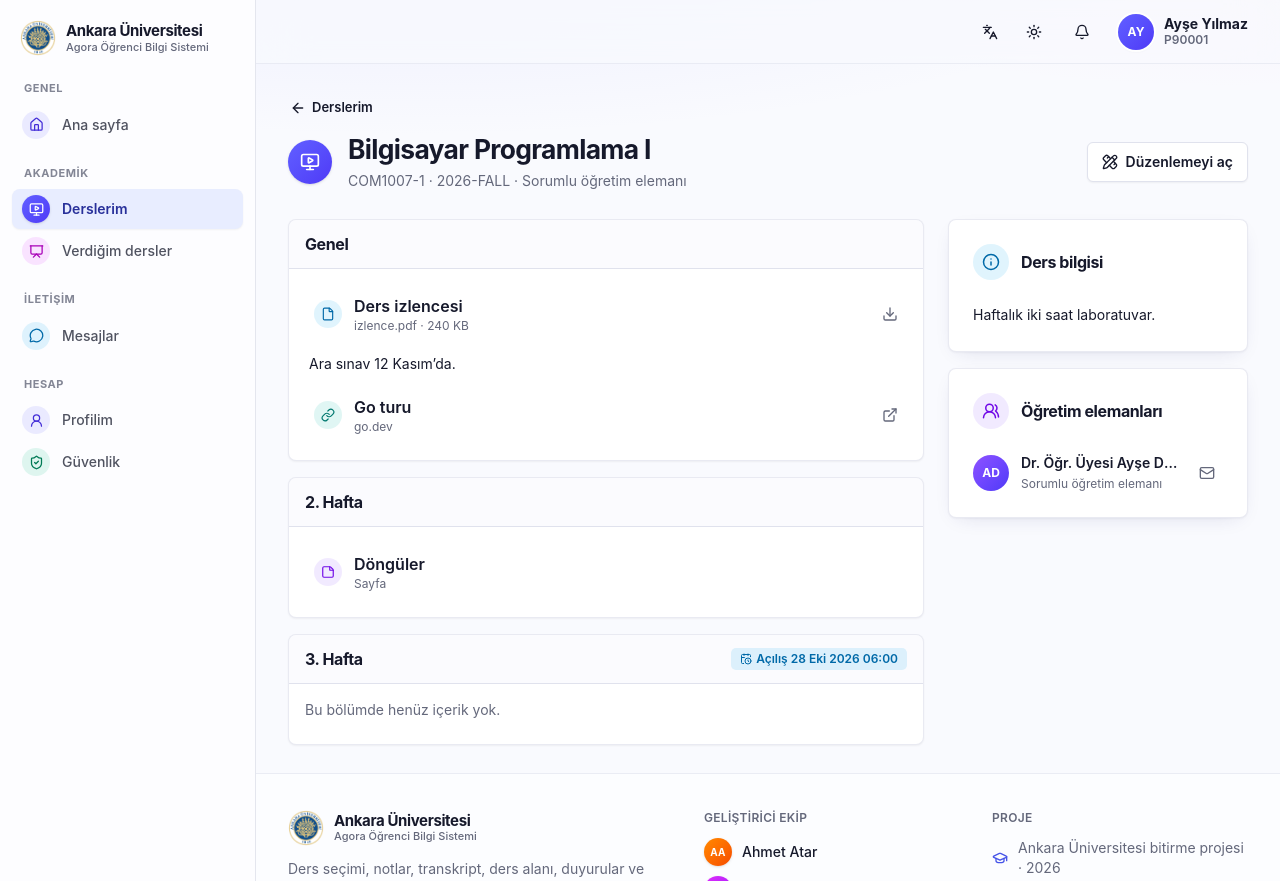
it: ders alanı (öğretim elemanı) › bağlantı etkinliği eklenir; başlık zorunludur
Click the button "Düzenlemeyi aç" at (1167, 162), box [1087,142,1248,182]
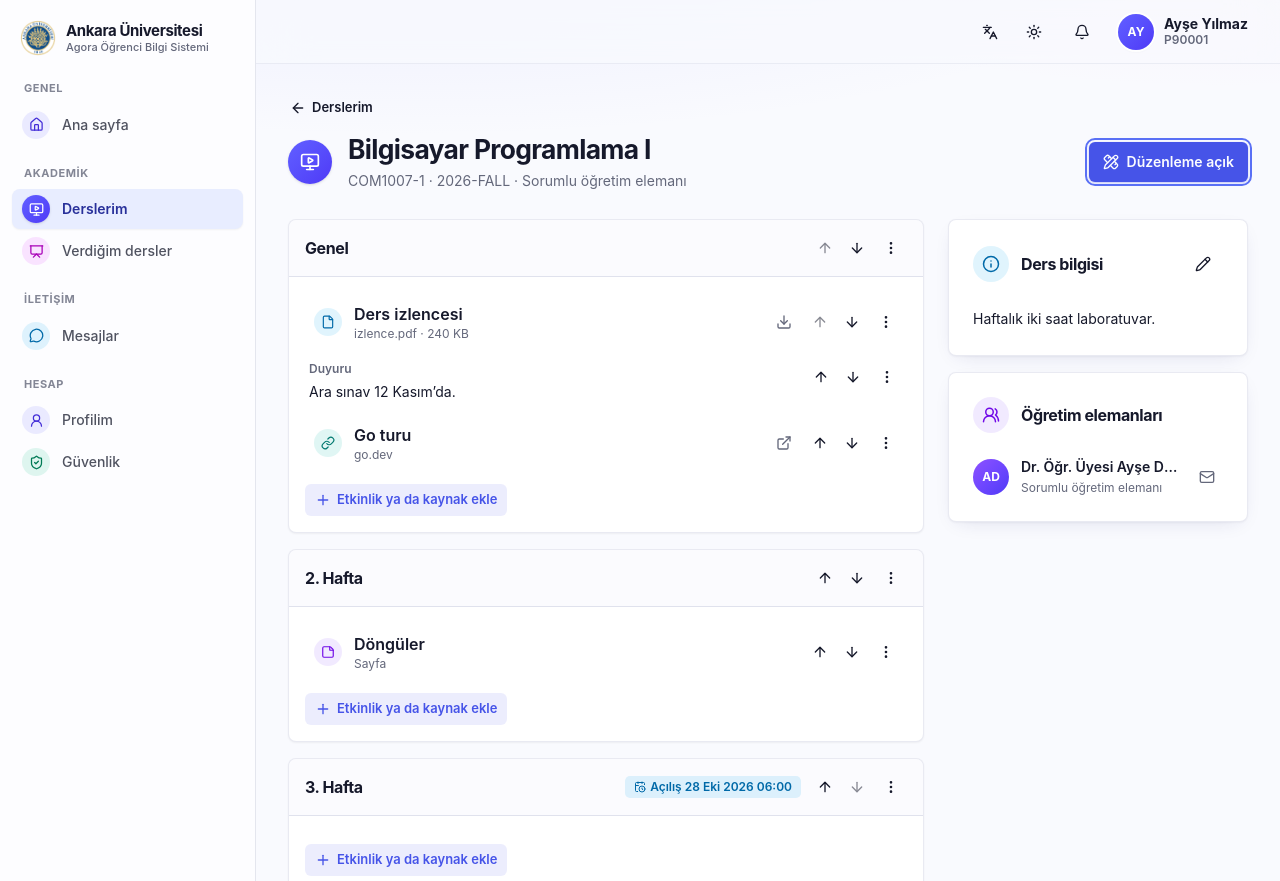
Click the button "Etkinlik ya da kaynak ekle" below "Ara sınav 12 Kasım’da." at (406, 500), box [305,484,507,516]
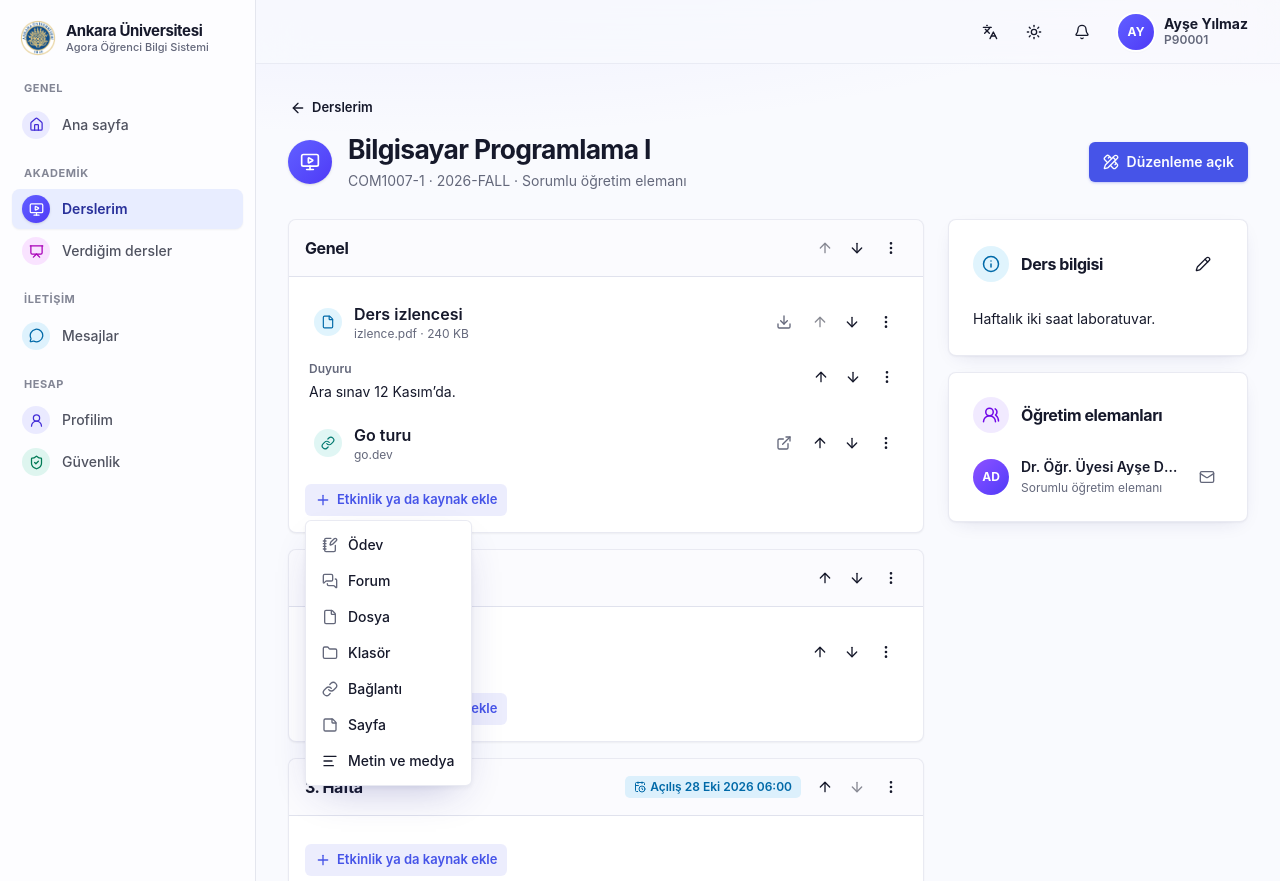
Click the menu item "Bağlantı" at (362, 688), box [322,680,402,697]
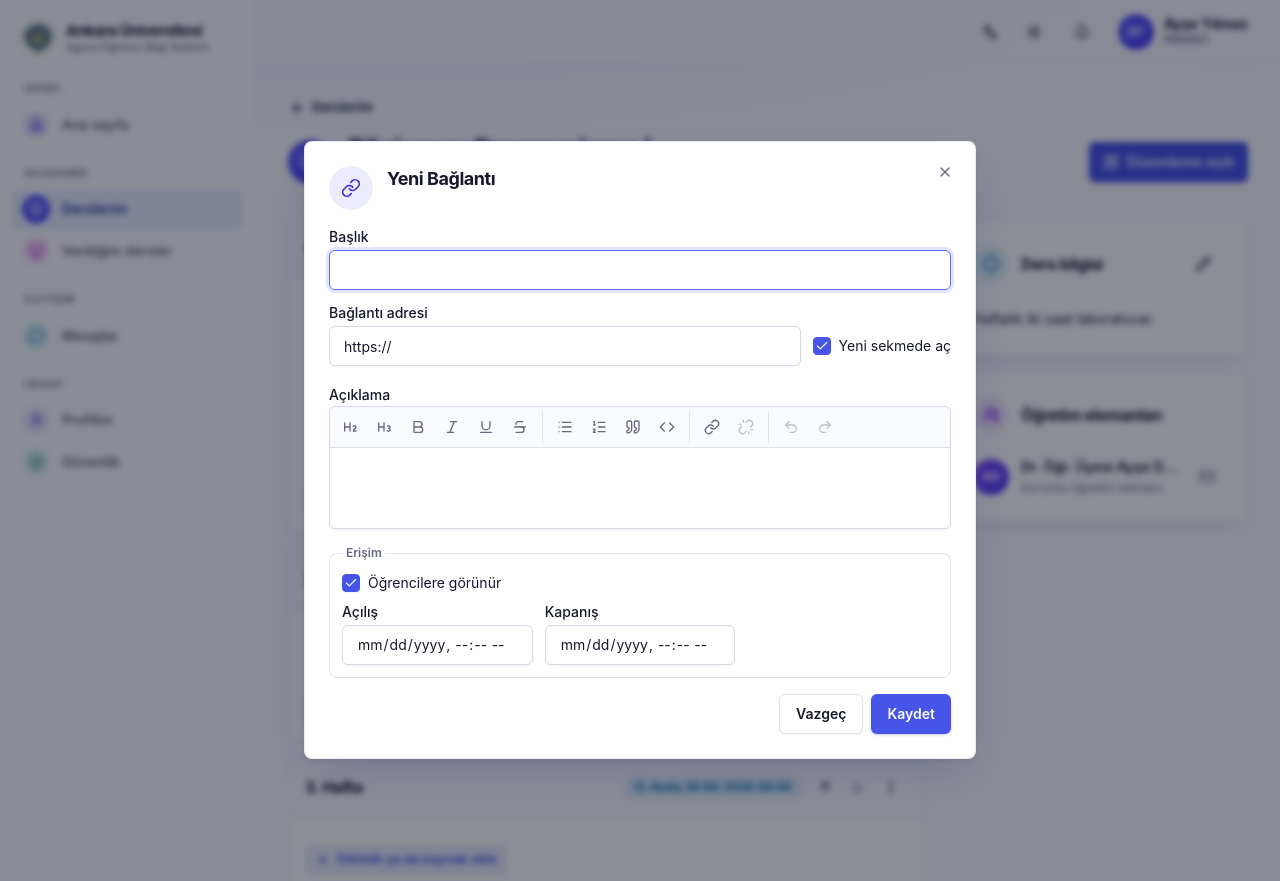
Click the button "Kaydet" at (911, 714), box [871,694,951,734]
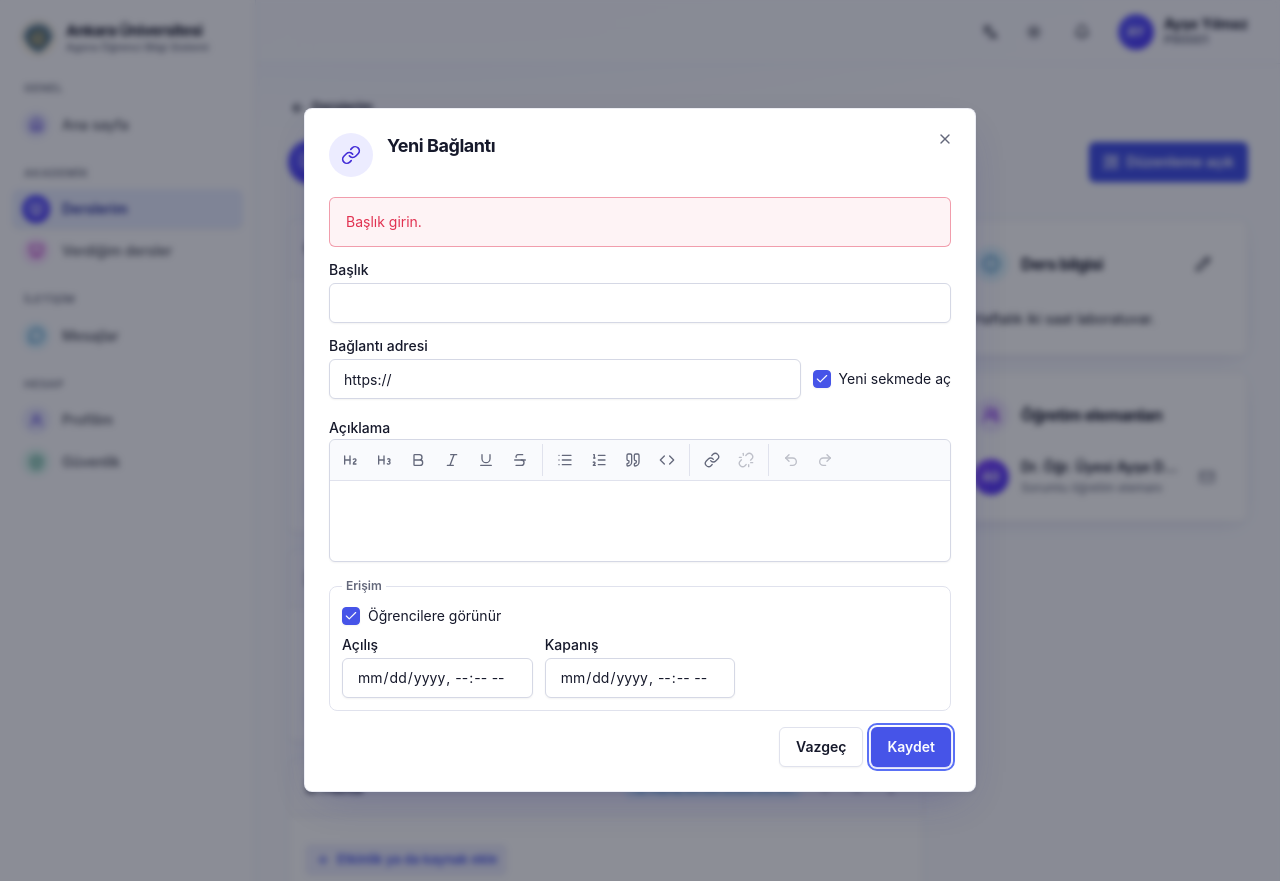
Expected: the text "Başlık girin." is shown, [346,213,422,230]
Type "Go belgeleri" into the field labelled "Başlık" at (640, 303), box [329,283,951,323]
Replace the text in the field labelled "Bağlantı adresi" with "https://go.dev/doc" at (565, 379), box [329,359,801,399]
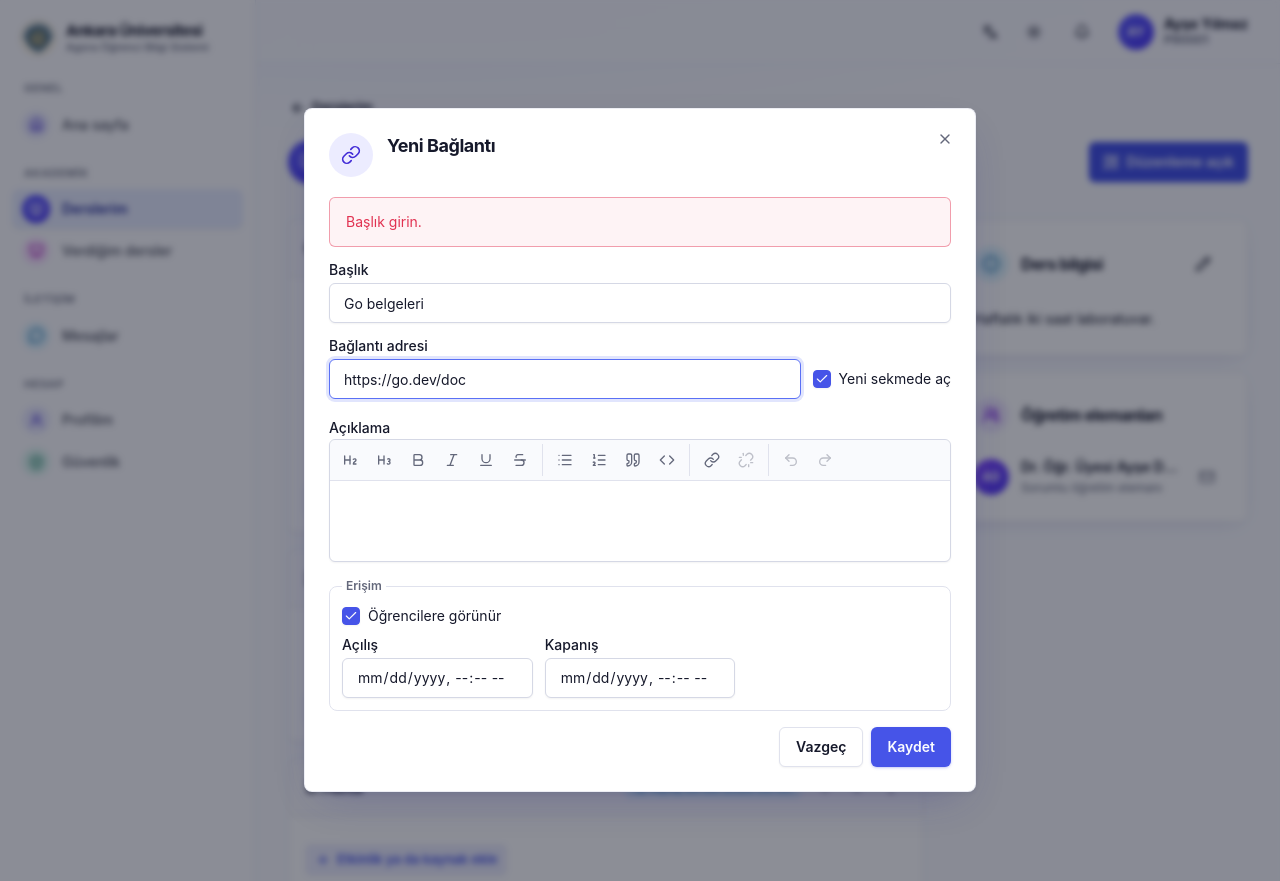
Click the button "Kaydet" at (911, 747), box [871,727,951,767]
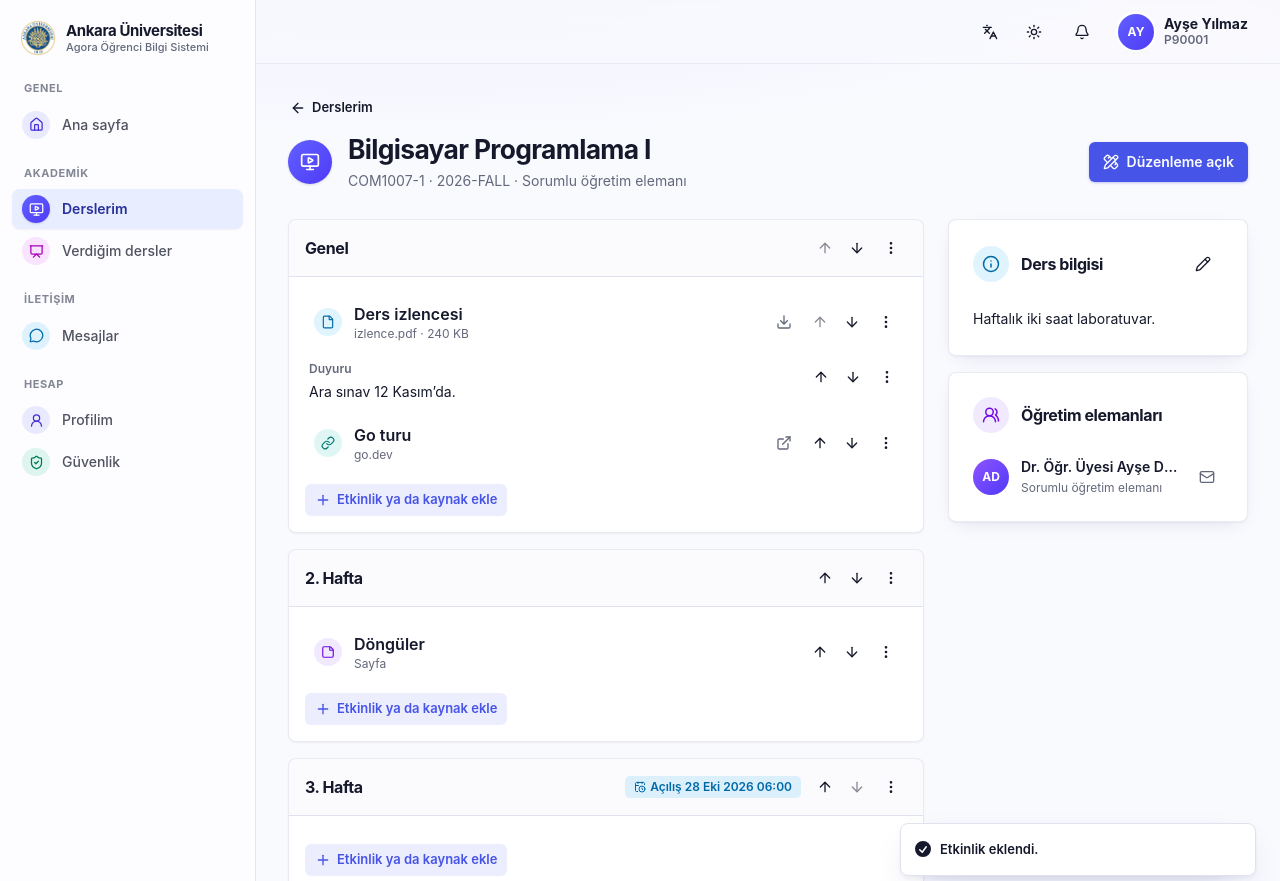
Expected: the dialog is gone
Expected: the text "Etkinlik eklendi." is shown, [940,840,1038,859]
